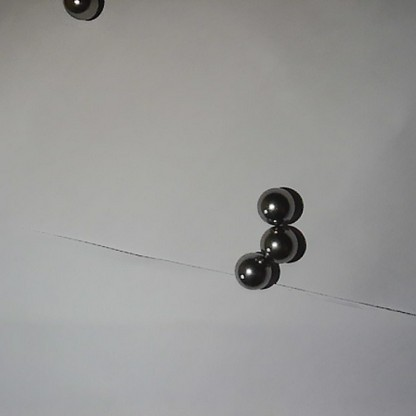ironball: (251, 178, 296, 227), (256, 223, 306, 261), (233, 250, 274, 292), (60, 0, 102, 27)
